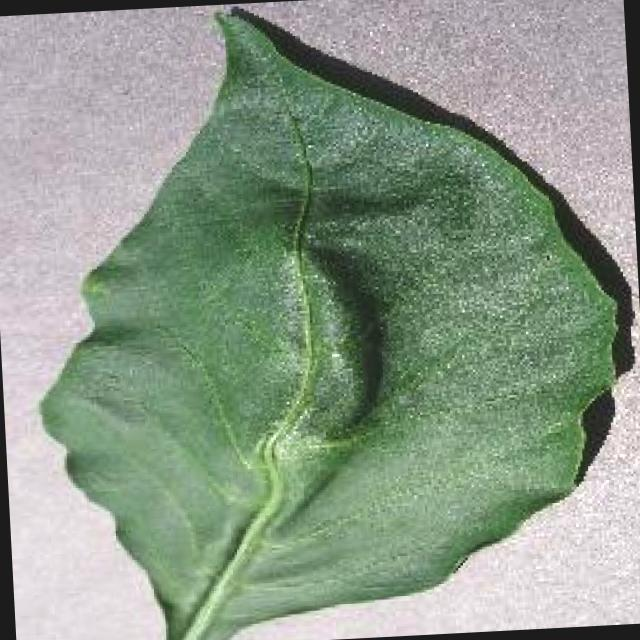Leaf: (68, 6, 626, 577)
